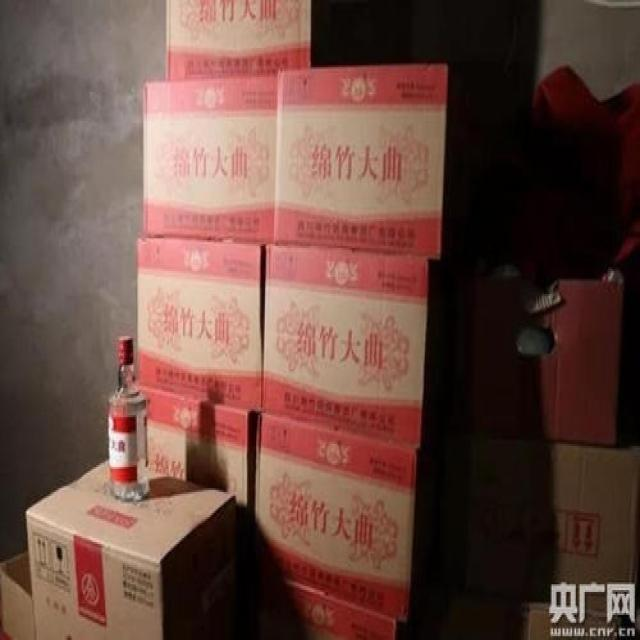box: (408, 431, 639, 611), (28, 460, 242, 637), (250, 409, 416, 618), (421, 279, 627, 445), (264, 242, 428, 447), (274, 64, 447, 258), (141, 73, 278, 240), (139, 238, 263, 409), (144, 390, 258, 522), (166, 1, 311, 82), (243, 563, 398, 637), (407, 597, 639, 638), (1, 546, 35, 637)
